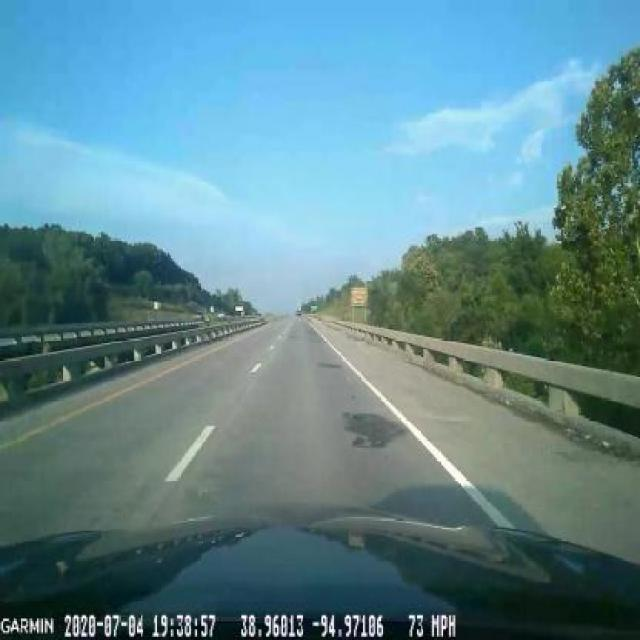Buraco: (340, 411, 409, 452)
